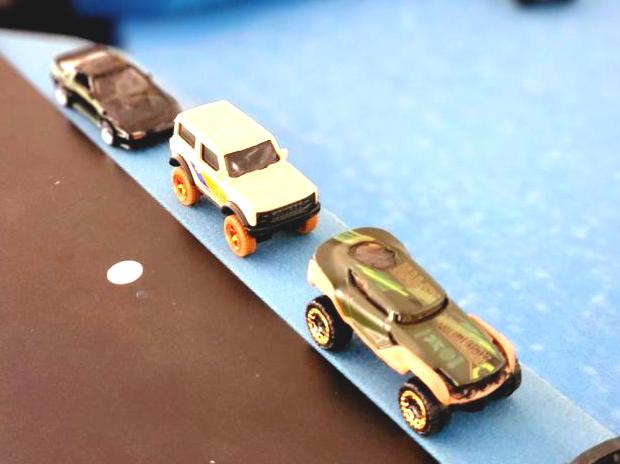toy-car: (303, 226, 522, 437), (170, 99, 321, 258), (49, 44, 182, 153), (562, 430, 620, 464)
